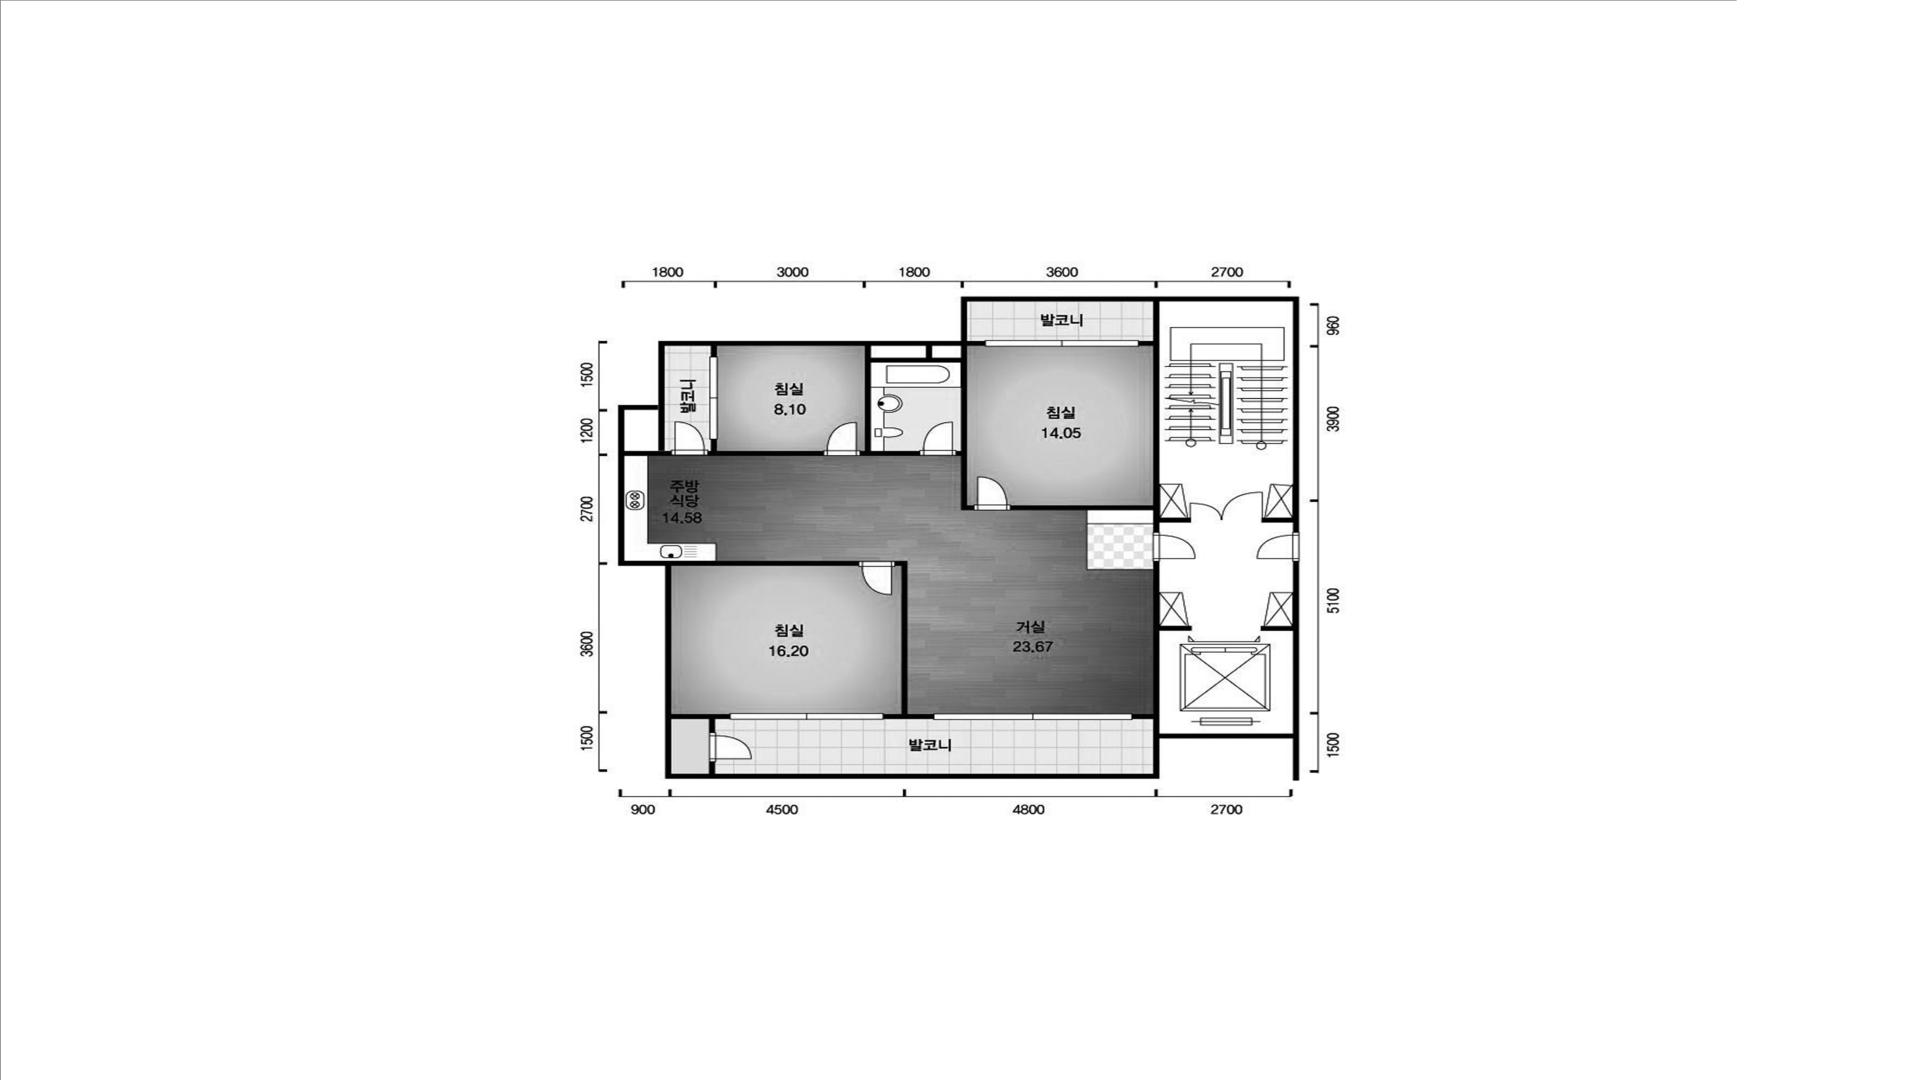background: (0, 0, 1920, 1080)
door: (1191, 492, 1263, 522), (1257, 531, 1300, 562), (709, 732, 753, 762), (671, 421, 708, 456), (858, 560, 894, 596), (823, 422, 860, 456), (919, 422, 956, 456), (1153, 531, 1196, 560), (975, 476, 1010, 510)
wall: (617, 297, 1299, 778), (1010, 302, 1191, 533), (860, 345, 975, 510), (1133, 562, 1192, 733), (884, 560, 934, 719), (624, 410, 671, 456), (708, 440, 824, 456), (671, 713, 729, 732), (671, 560, 858, 566), (1261, 626, 1294, 632), (1262, 518, 1292, 522), (968, 340, 985, 345), (711, 345, 717, 356), (709, 762, 715, 774)
window: (934, 713, 1133, 720), (985, 340, 1139, 347), (729, 713, 884, 720), (709, 356, 719, 439)
